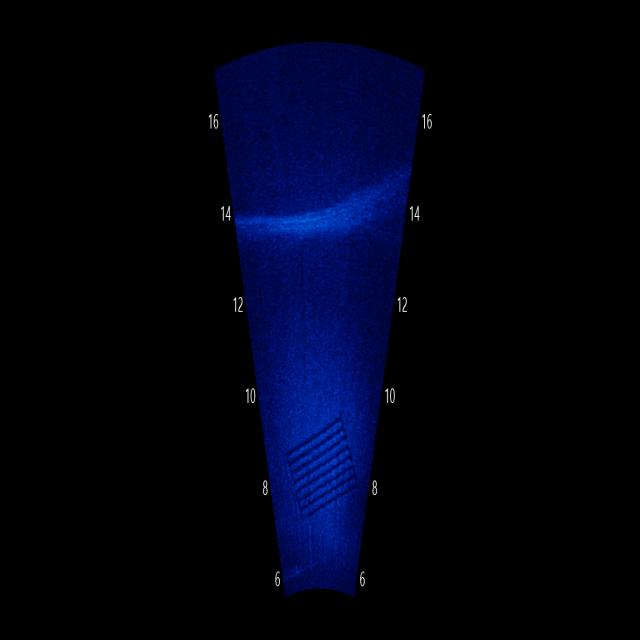square: (280, 394, 366, 532)
